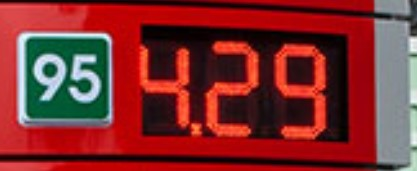digits: (136, 33, 197, 136), (271, 38, 327, 140), (205, 39, 261, 139)
